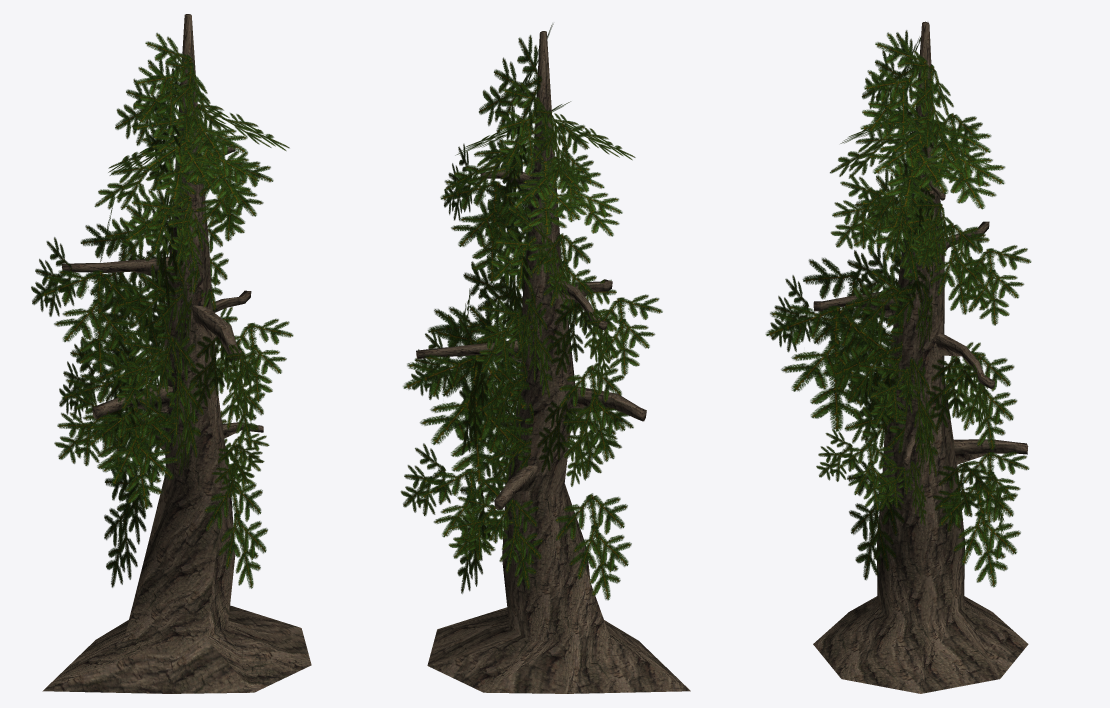
Rendered from pine_tree_lod_medium.glb.
The picture shows the model from 3 angles, left to right: view 1: azimuth 30°, elevation 25°; view 2: azimuth 150°, elevation 25°; view 3: azimuth 270°, elevation 25°; orthographic projection. The views are drawn at different scales.
Parts seen in each view (by area): view 1: tree_1.png__, trunk_bark.jpg__; view 2: tree_1.png__, trunk_bark.jpg__; view 3: tree_1.png__, trunk_bark.jpg__.
Part boxes in pixels (<box>): tree_1.png__: <box>31,32,293,588</box>; trunk_bark.jpg__: <box>42,14,311,693</box>; tree_1.png__: <box>400,23,662,600</box>; trunk_bark.jpg__: <box>416,31,690,693</box>; tree_1.png__: <box>765,30,1031,587</box>; trunk_bark.jpg__: <box>813,21,1028,693</box>.
Size of the model in its own units: 5.54 by 11.98 by 5.94.
Materials: 2 (2 with a texture image).
